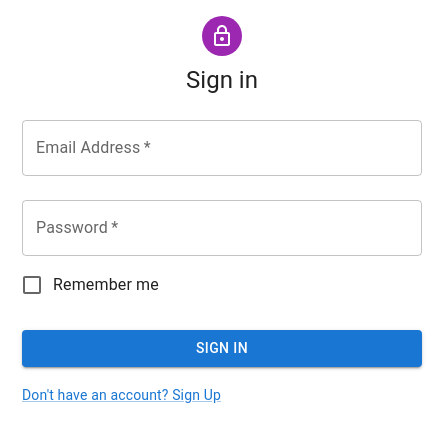
Test: test auth › should pass wrong user credentials (user doesnt exist) and get error
This screenshot has width=445, height=438.
Type "user@user.com" into the field labelled "Email Address *".
click(222, 148); type("user@user.com")  # box [22,120,422,176]
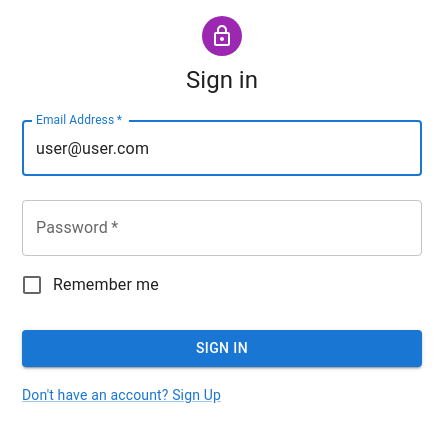
Type "useruser" into the password field labelled "Password *".
click(222, 228); type("useruser")  # box [22,200,422,256]
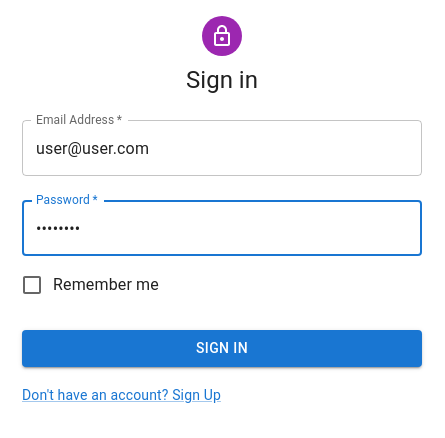
Click the button "Sign In".
click(222, 349)  # box [22,330,422,367]
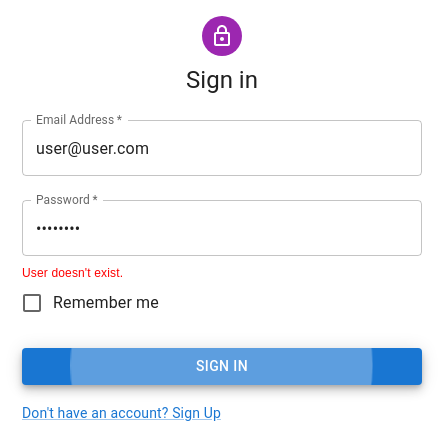
Now the text "User doesn't exist." is shown, box [22,266,123,280]
